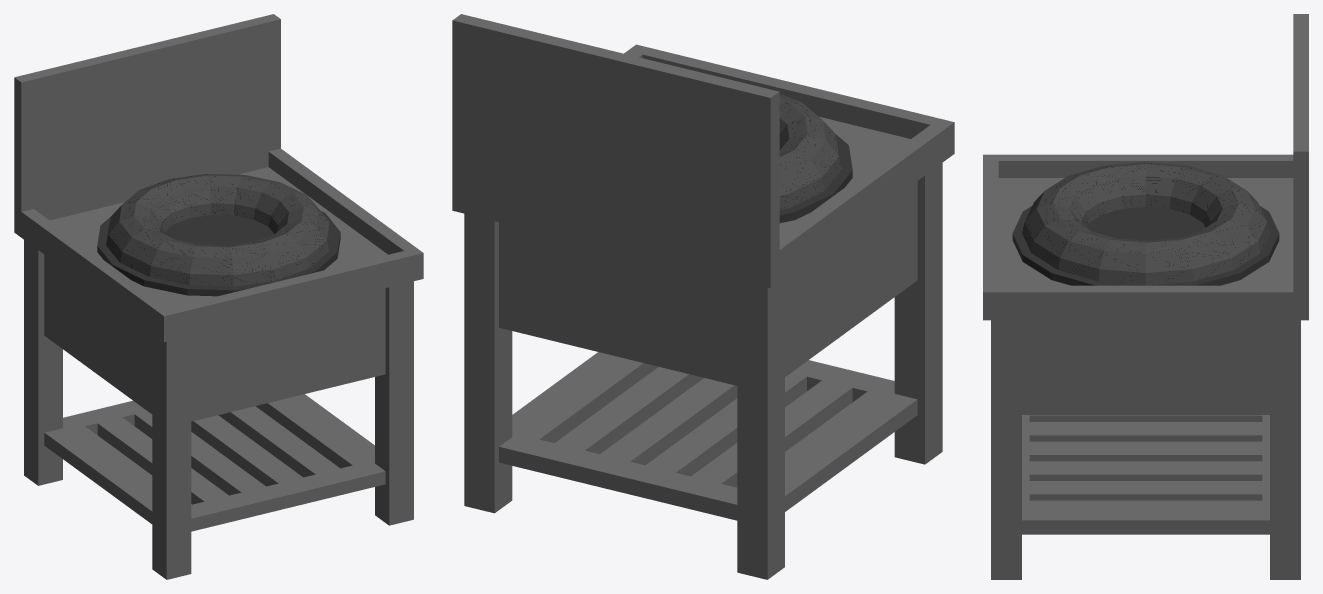
The model's file is chinese_range.gltf.
3 renders of one model, left to right at view 1: azimuth 30°, elevation 25°; view 2: azimuth 150°, elevation 25°; view 3: azimuth 270°, elevation 25°, orthographic. The views are drawn at different scales.
Visible parts, largest first — view 1: 円柱; view 2: 円柱; view 3: 円柱.
Part boxes in pixels (bbox=[...]): 円柱: bbox=[14, 14, 423, 579]; 円柱: bbox=[452, 14, 954, 579]; 円柱: bbox=[983, 14, 1308, 579].
Bounding box in the file's own units: 2.1 × 3.07 × 2.1.
1 material, 1 textured.
